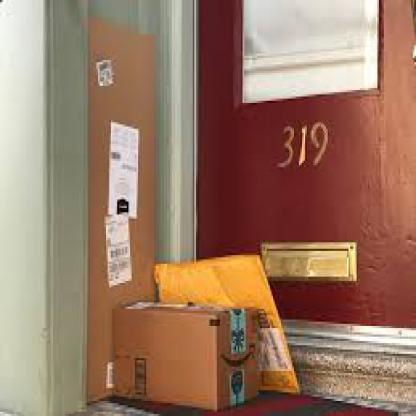package: (112, 302, 266, 413)
